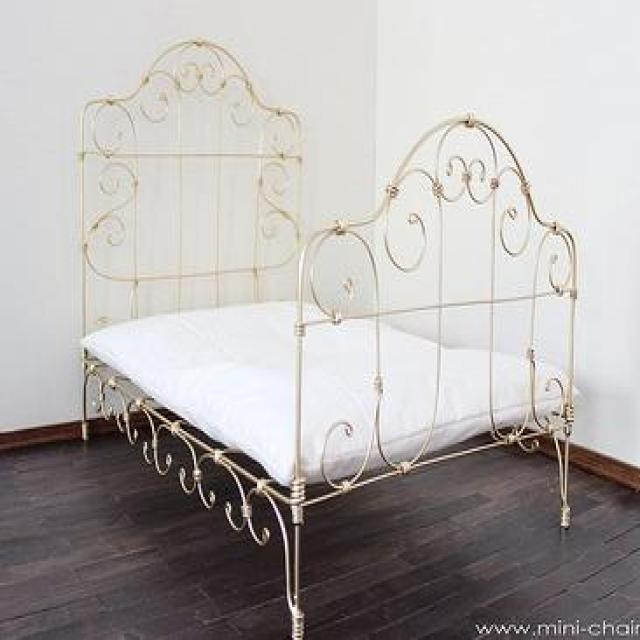bed: (75, 35, 579, 638)
